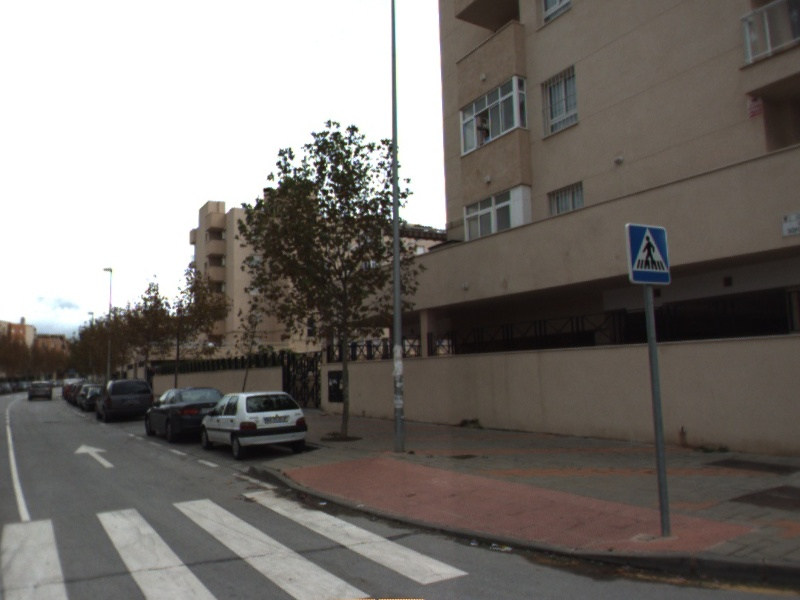STRAIGHT: (72, 442, 117, 470)
